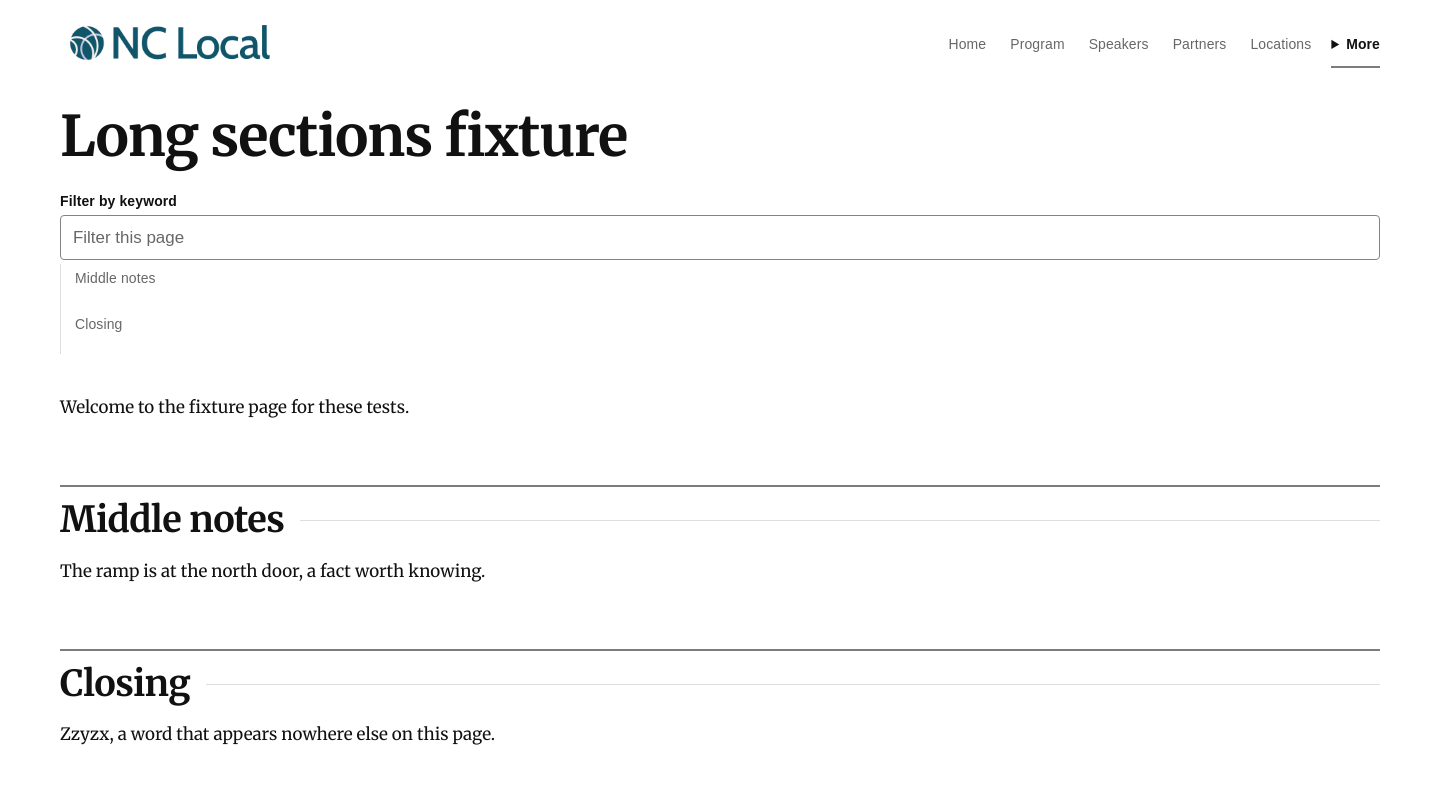
Scenario: ContentPage — search and section index on long pages › keeps the long read opening on the first section, never on the first match of a filter
This screenshot has width=1440, height=810.
Expected: the heading "Long sections fixture" is shown, [60,101,627,171]
Expected: the number of elements with class "long-read-opening" is 1, [60,396,409,418]
Step 1. Type "Zzyzx" into the search field labelled "Filter by keyword" → (720, 238), box [60,215,1380,260]
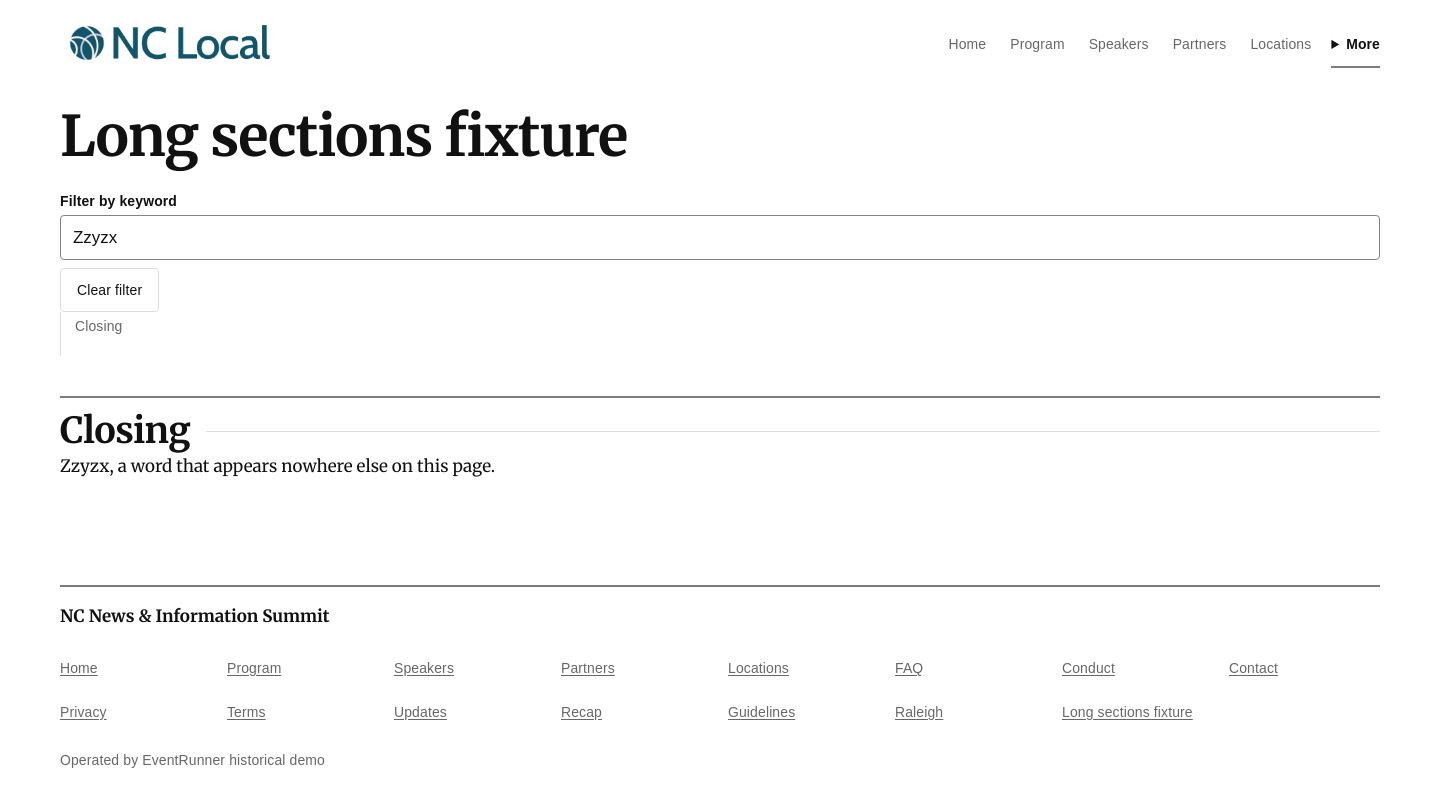
Expected: the text "Zzyzx, a word that appears nowhere else on this page." is shown, [60,455,495,477]
Expected: no elements with class "long-read-opening" are shown
